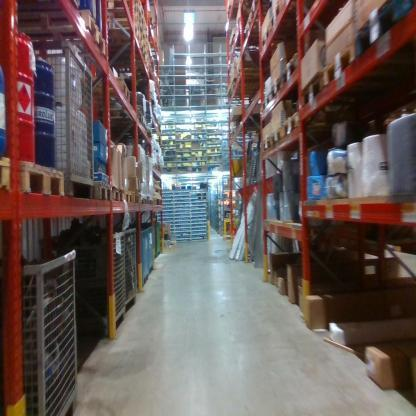pallets: (251, 21, 409, 154), (0, 157, 163, 209)
